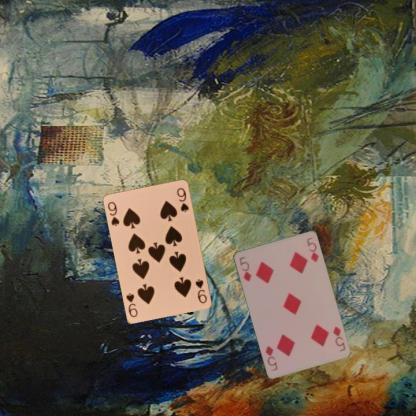5d: (236, 254, 252, 283), (330, 324, 346, 352)
9s: (105, 199, 121, 228), (193, 276, 208, 304)
